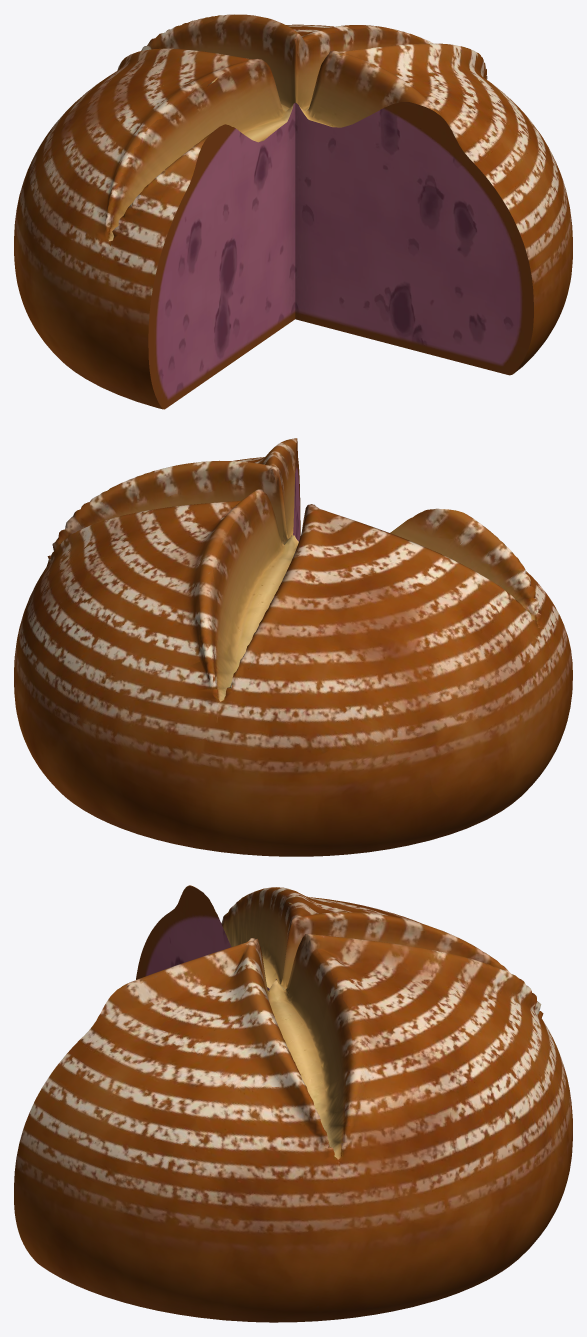
Rendered from campagne--beet-fresh.glb.
3 views of the same model, one above another, from view 1: azimuth 30°, elevation 25°; view 2: azimuth 150°, elevation 25°; view 3: azimuth 270°, elevation 25° (orthographic). The views are drawn at different scales.
Parts seen in each view (by area): view 1: campagne_beet-fresh; view 2: campagne_beet-fresh; view 3: campagne_beet-fresh.
Boxes of the visible parts, box(x1,y1,x2,y2) form: campagne_beet-fresh: box(14, 14, 572, 409); campagne_beet-fresh: box(14, 438, 572, 856); campagne_beet-fresh: box(14, 885, 572, 1322).
Bounding box in the file's own units: 0.9987 × 0.5303 × 0.9383.
Materials: 1 (1 with a texture image).
